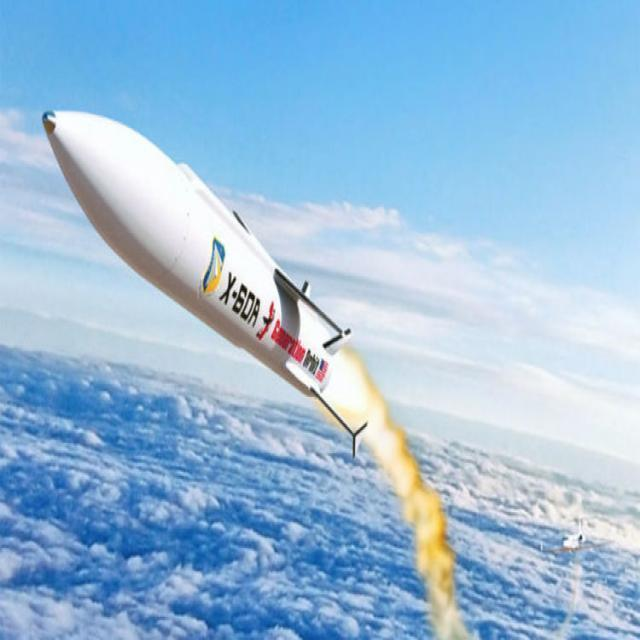missile: (36, 106, 349, 403)
